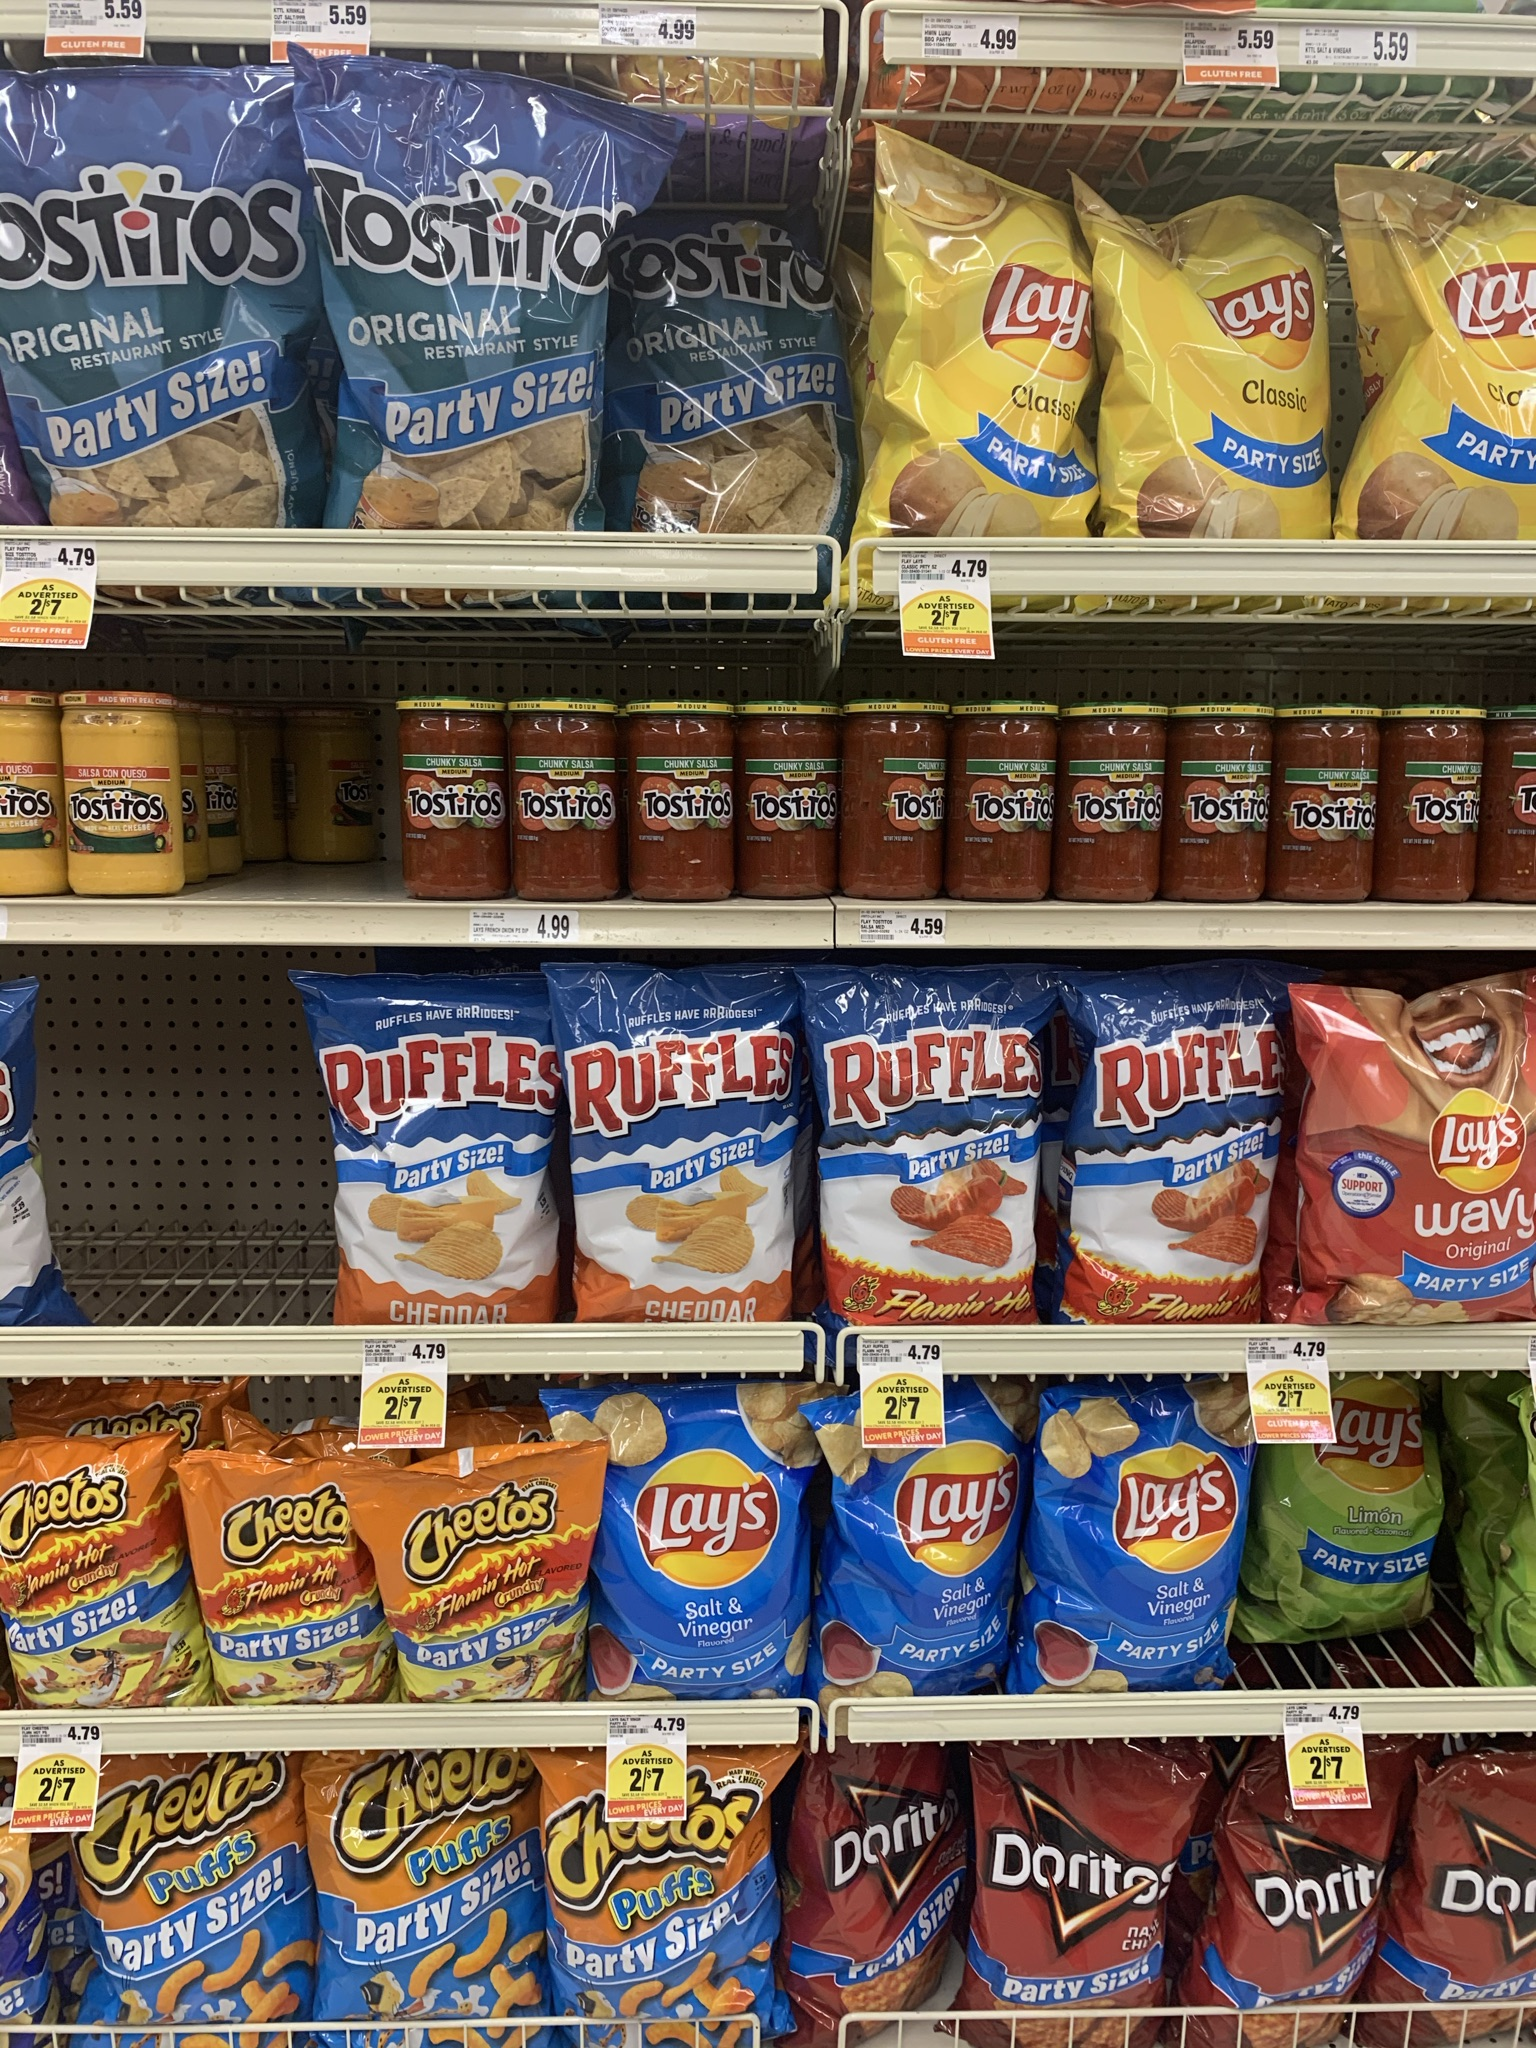Chips: (2, 63, 324, 497), (307, 60, 600, 527), (305, 963, 578, 1316), (858, 153, 1113, 527), (561, 955, 815, 1316), (1288, 976, 1534, 1321), (1062, 956, 1299, 1314), (812, 959, 1050, 1313), (1097, 195, 1352, 524), (579, 1380, 815, 1679), (1007, 1385, 1252, 1671), (63, 1756, 311, 2021), (302, 1758, 550, 2017), (966, 1738, 1175, 2046), (545, 1738, 773, 2017), (2, 1426, 223, 1701), (1218, 1732, 1409, 2032), (360, 1455, 595, 1692)
